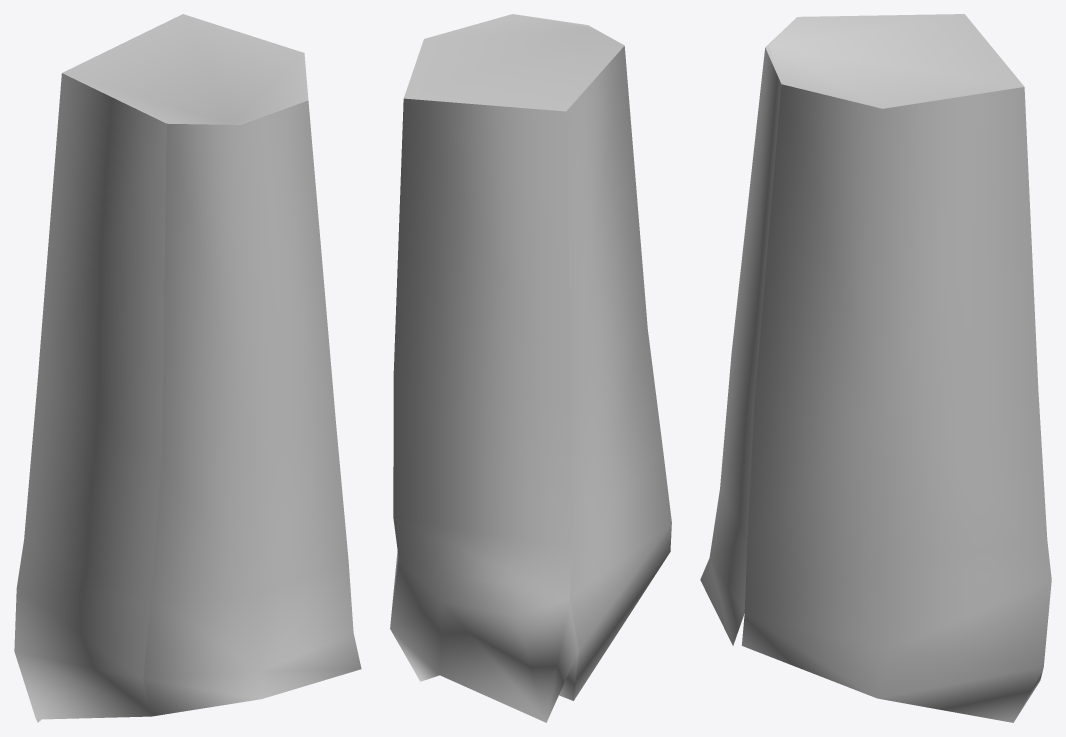
Rendered from right_forearm.glb.
3 views of the same model, side by side, from view 1: azimuth 30°, elevation 25°; view 2: azimuth 150°, elevation 25°; view 3: azimuth 270°, elevation 25° (orthographic). The views are drawn at different scales.
Parts seen in each view (by area): view 1: sweater-white_RIGHT_FOREARM; view 2: sweater-white_RIGHT_FOREARM; view 3: sweater-white_RIGHT_FOREARM.
Boxes of the visible parts, x1,y1,x2,y2 form: sweater-white_RIGHT_FOREARM: (14,14,361,722); sweater-white_RIGHT_FOREARM: (390,14,671,722); sweater-white_RIGHT_FOREARM: (700,14,1051,722).
Size of the model in its own units: 0.1155 by 0.2921 by 0.1405.
1 material, 1 textured.
